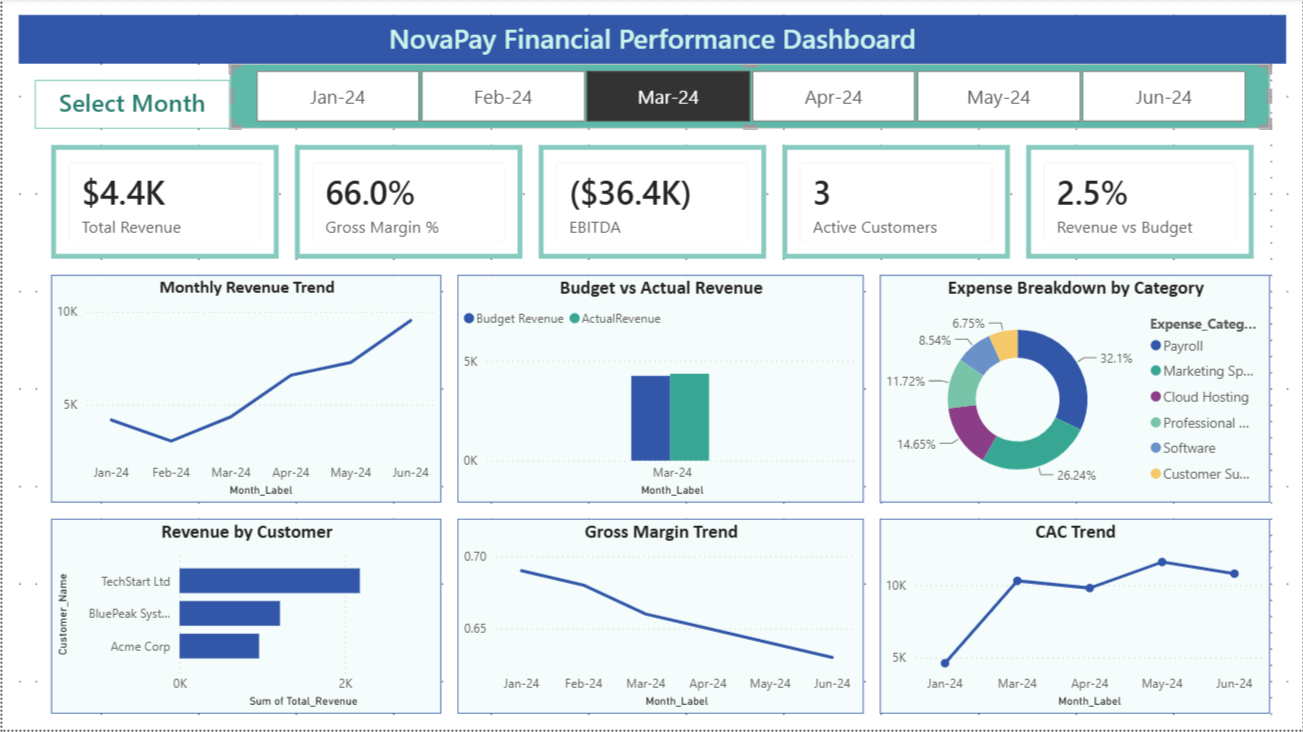

What the dashboard file says about the page in this screenshot:
{"tool":"powerbi","page":{"name":"Executive Dashboard","canvas":[1280,720],"ordinal":0},"visuals":[{"type":"slicer","fields":{"Values":["tblDate.Month_Label"]},"box":[224,64,1024,64],"z":0},{"type":"cardVisual","fields":{"Data":["Monthly_Summary.Total Revenue"]},"box":[48,144,224,112],"z":1000},{"type":"cardVisual","fields":{"Data":["Monthly_Summary.Gross Margin %"]},"box":[288,144,224,112],"z":2000},{"type":"cardVisual","fields":{"Data":["Monthly_Summary.Total EBITDA"]},"box":[528,144,224,112],"z":3000},{"type":"cardVisual","fields":{"Data":["tblKPI.Active Customers KPI"]},"box":[768,144,224,112],"z":4000},{"type":"cardVisual","fields":{"Data":["Monthly_Summary.Revenue vs Budget %"]},"box":[1008,144,224,112],"z":5000},{"type":"lineChart","title":"Monthly Revenue Trend","fields":{"Category":["tblDate.Month_Label"],"Y":["Sum(Monthly_Summary.Actual_Revenue)"]},"box":[48,272,384,224],"z":6000},{"type":"clusteredColumnChart","title":"Budget vs Actual Revenue","fields":{"Category":["tblDate.Month_Label"],"Y":["Sum(Budget_vs_Actual.Budget_Revenue)","Sum(Budget_vs_Actual.Actual_Revenue)"]},"box":[448,272,400,224],"z":7000},{"type":"donutChart","title":"Expense Breakdown by Category","fields":{"Category":["tblExpenses.Expense_Category"],"Y":["Sum(tblExpenses.Actual_Expense)"]},"box":[864,272,384,224],"z":8000},{"type":"barChart","title":"Revenue by Customer","fields":{"Category":["tblCustomers.Customer_Name"],"Y":["Sum(tblRevenue.Total_Revenue)"]},"box":[48,512,384,192],"z":9000},{"type":"lineChart","title":"Gross Margin Trend","fields":{"Category":["tblDate.Month_Label"],"Y":["Avg(tblKPI.Gross_Margin)"]},"box":[448,512,400,192],"z":10000},{"type":"lineChart","title":"CAC Trend","fields":{"Category":["tblDate.Month_Label"],"Y":["Avg(tblKPI.CAC)"]},"box":[864,512,384,192],"z":11000},{"type":"textbox","box":[32,80,192,48],"z":12000},{"type":"textbox","box":[16,16,1248,48],"z":13000}]}

Visuals, with their boxes in screenshot pixels (x1, y1, x2, y2), scaled from the page's 1280x720 canvas onto the 1303x732 screenshot:
slicer - tblDate.Month_Label: [228,65,1270,130]
cardVisual - Monthly_Summary.Total Revenue: [49,146,277,260]
cardVisual - Monthly_Summary.Gross Margin %: [293,146,521,260]
cardVisual - Monthly_Summary.Total EBITDA: [537,146,766,260]
cardVisual - tblKPI.Active Customers KPI: [782,146,1010,260]
cardVisual - Monthly_Summary.Revenue vs Budget %: [1026,146,1254,260]
"Monthly Revenue Trend" lineChart: [49,277,440,504]
"Budget vs Actual Revenue" clusteredColumnChart: [456,277,863,504]
"Expense Breakdown by Category" donutChart: [880,277,1270,504]
"Revenue by Customer" barChart: [49,521,440,716]
"Gross Margin Trend" lineChart: [456,521,863,716]
"CAC Trend" lineChart: [880,521,1270,716]
textbox: [33,81,228,130]
textbox: [16,16,1287,65]
